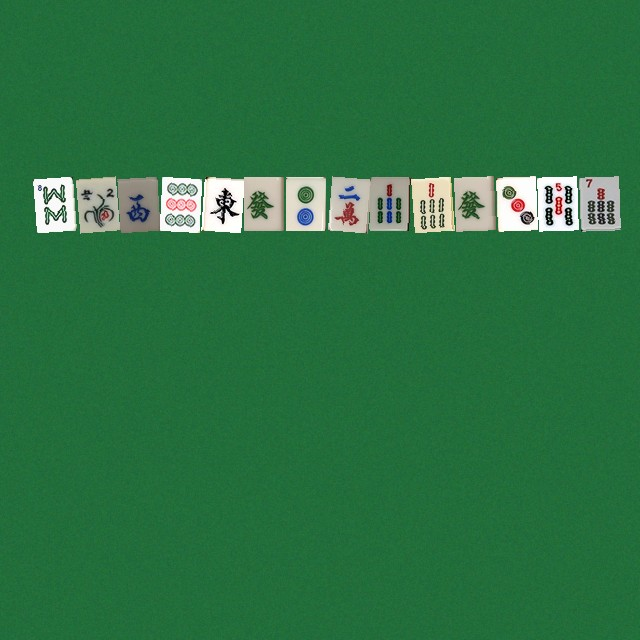tile: (33, 176, 73, 230), (75, 176, 115, 230), (117, 176, 157, 230), (159, 176, 199, 230), (201, 176, 241, 230), (243, 176, 283, 230), (285, 176, 325, 230), (327, 176, 367, 230), (369, 176, 409, 230), (411, 176, 451, 230), (453, 176, 493, 230), (495, 176, 535, 230), (537, 176, 577, 230), (579, 176, 619, 230)
